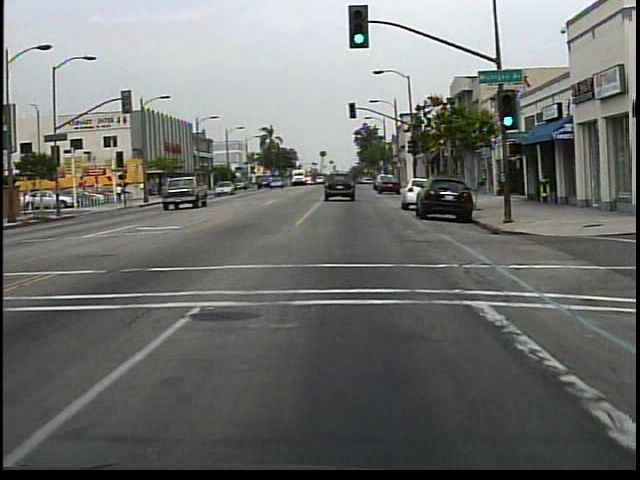person: (117, 182, 126, 206)
